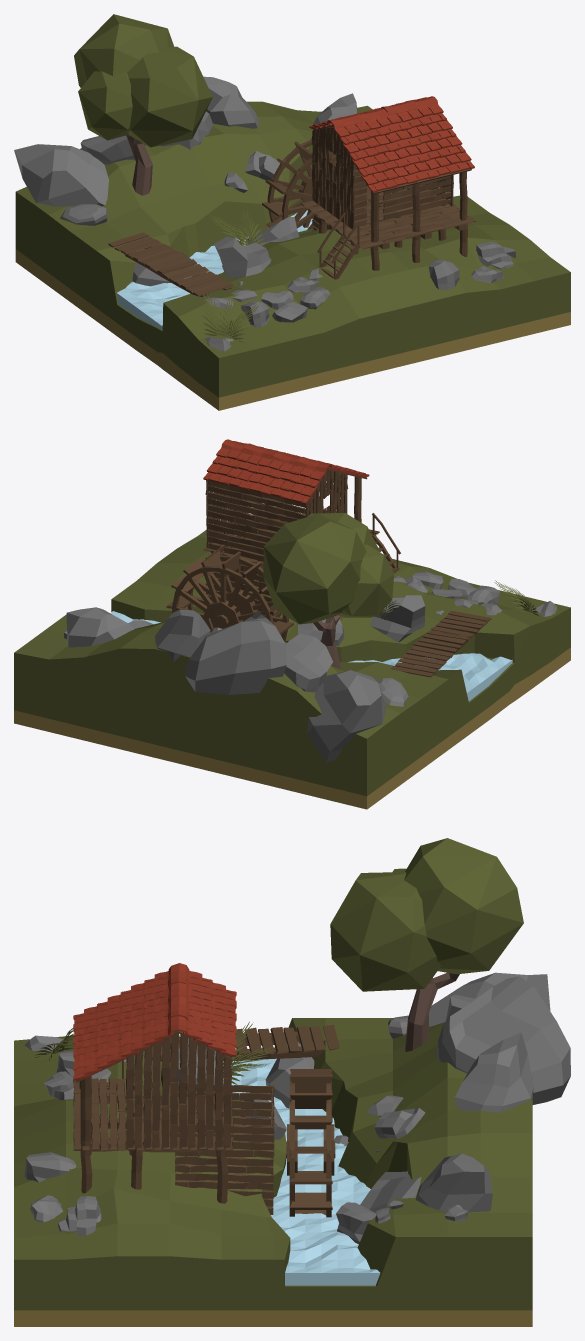
Rendered from 018-watermill.fbx.
The picture shows the model from 3 angles, top to bottom: view 1: azimuth 30°, elevation 25°; view 2: azimuth 150°, elevation 25°; view 3: azimuth 270°, elevation 25°; orthographic projection. The views are drawn at different scales.
Parts seen in each view (by area): view 1: Cube, Icosphere.002, Vert.009, BigRock2.004, Plane.008, Plane.004, Plane.014, Plane, Plane.005, Cylinder.002, Circle, BigRock2.002 (+14 smaller); view 2: Cube, Icosphere.002, BigRock5.002, Plane.006, BigRock2.004, Vert.010, Circle, Plane.014, Rock_15.003, Plane, BigRock2.003, BigRock2.002 (+9 smaller); view 3: Cube, Icosphere.002, Plane, Plane.007, BigRock5.002, Vert.009, Plane.012, Plane.008, BigRock2.002, Circle.001, BigRock2.003, Vert.010 (+15 smaller).
Boxes of the visible parts, x1,y1,x2,y2 form: Cube: (15,101,570,410); Icosphere.002: (74,14,212,195); Vert.009: (333,105,474,192); BigRock2.004: (14,144,108,206); Plane.008: (301,185,476,249); Plane.004: (311,127,354,229); Plane.014: (108,232,233,297); Plane: (116,193,391,329); Plane.005: (354,165,451,226); Cylinder.002: (319,171,467,270); Circle: (267,139,335,229); BigRock2.002: (203,76,258,128); Cube: (14,530,570,809); Icosphere.002: (263,513,393,669); BigRock5.002: (185,611,286,694); Plane.006: (208,480,305,561); BigRock2.004: (307,670,386,762); Vert.010: (203,447,326,504); Circle: (172,555,288,641); Plane.014: (391,610,491,677); Rock_15.003: (284,633,332,692); Plane: (110,611,512,701); BigRock2.003: (66,607,134,647); BigRock2.002: (155,609,210,661); Cube: (14,1018,532,1326); Icosphere.002: (330,838,523,1051); Plane: (223,1058,380,1285); Plane.007: (125,1034,232,1149); BigRock5.002: (436,976,570,1104); Vert.009: (73,971,173,1080); Plane.012: (175,1124,273,1214); Plane.008: (73,1078,233,1150); BigRock2.002: (455,1032,533,1112); Circle.001: (290,1069,332,1215); BigRock2.003: (415,1153,492,1212); Vert.010: (183,970,236,1057).
Size of what is drawn, in the model's own units: 1601 by 1071 by 1718.
